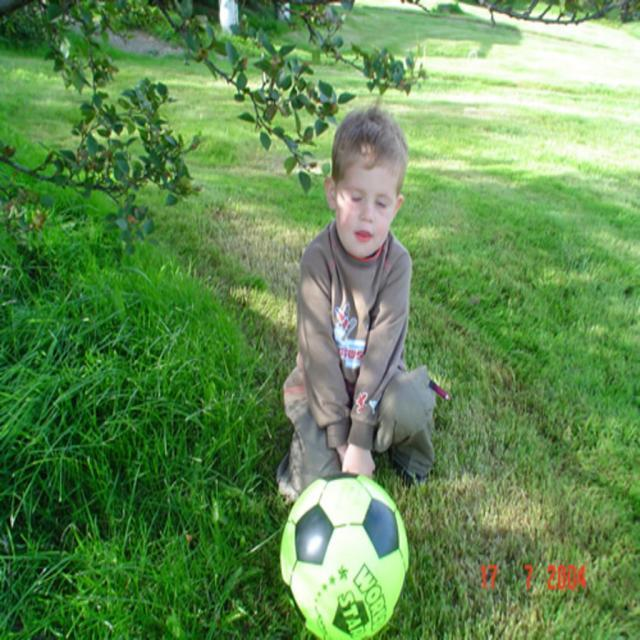ball: (279, 473, 411, 639)
